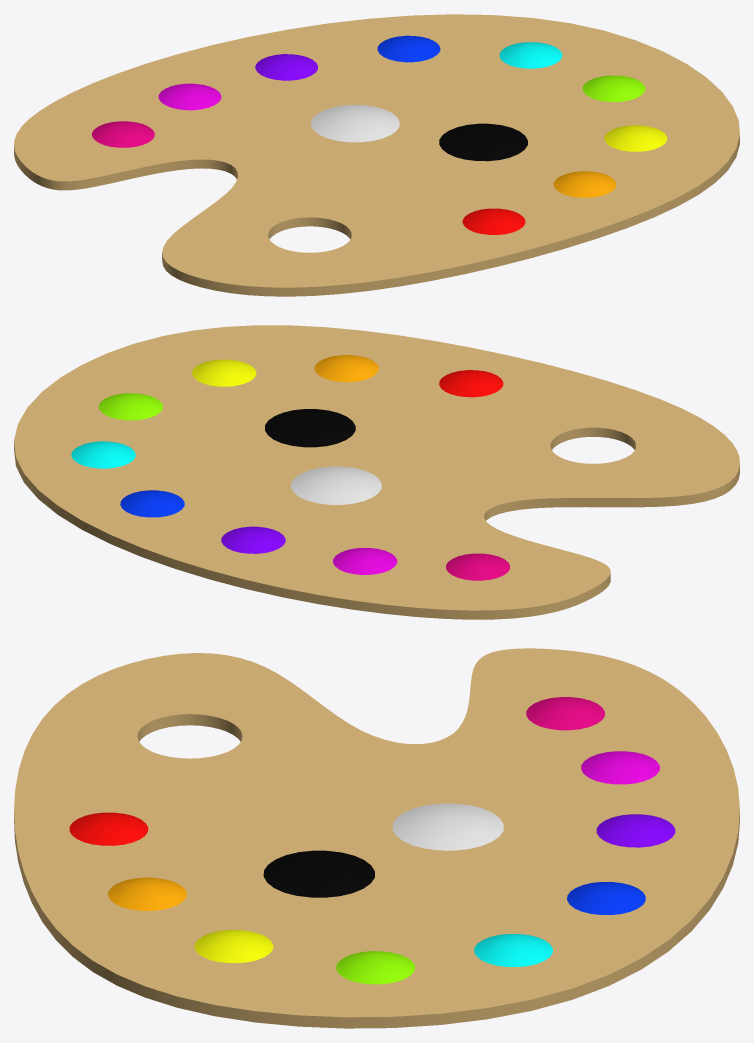
Rendered from Palette.fbx.
3 renders of one model, top to bottom at view 1: azimuth 30°, elevation 25°; view 2: azimuth 150°, elevation 25°; view 3: azimuth 270°, elevation 25°, orthographic. The views are drawn at different scales.
Visible parts, largest first — view 1: Palette; view 2: Palette; view 3: Palette.
Part boxes in pixels (bbox=[...]): Palette: bbox=[14, 14, 739, 296]; Palette: bbox=[14, 325, 739, 619]; Palette: bbox=[14, 648, 739, 1028].
Size of the model in its own units: 38.06 by 0.9766 by 31.65.
